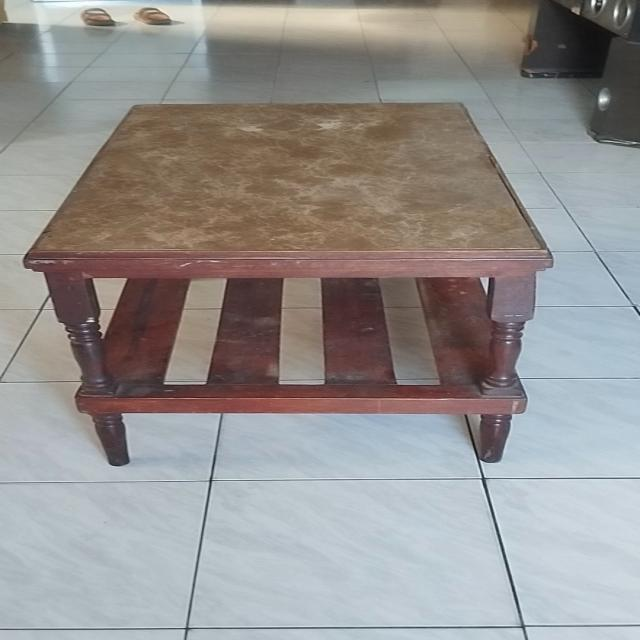table: (19, 100, 556, 473)
